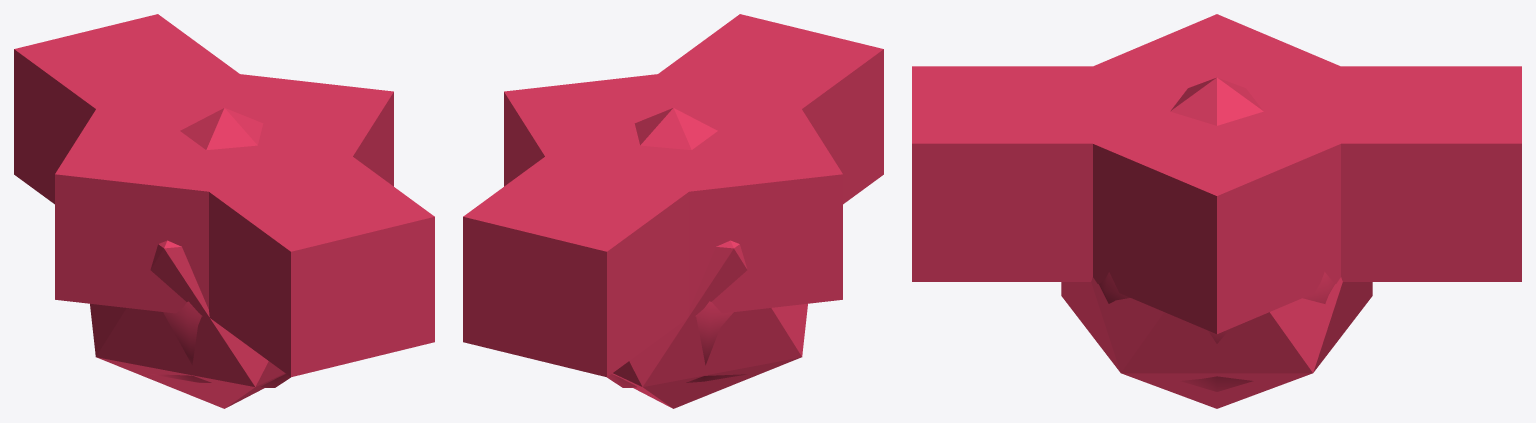
Rendered from Obstacle.fbx.
3 views of the same model, side by side, from view 1: azimuth 30°, elevation 25°; view 2: azimuth 150°, elevation 25°; view 3: azimuth 270°, elevation 25° (orthographic). The views are drawn at different scales.
Visible parts, largest first — view 1: obstacle4, obstacle3, obstacle1, obstacle2; view 2: obstacle4, obstacle3, obstacle1, obstacle2; view 3: obstacle4, obstacle3, obstacle1, obstacle2.
Boxes of the visible parts, x1,y1,x2,y2 form: obstacle4: (14, 14, 434, 377); obstacle3: (55, 61, 393, 316); obstacle1: (90, 108, 285, 408); obstacle2: (151, 301, 290, 387); obstacle4: (463, 14, 883, 377); obstacle3: (504, 61, 842, 316); obstacle1: (612, 108, 807, 408); obstacle2: (607, 301, 746, 387); obstacle4: (912, 66, 1521, 281); obstacle3: (1002, 14, 1431, 333); obstacle1: (1061, 77, 1372, 408); obstacle2: (1099, 272, 1334, 391).
Bounding box in the file's own units: 1.41 × 1.2 × 2.
